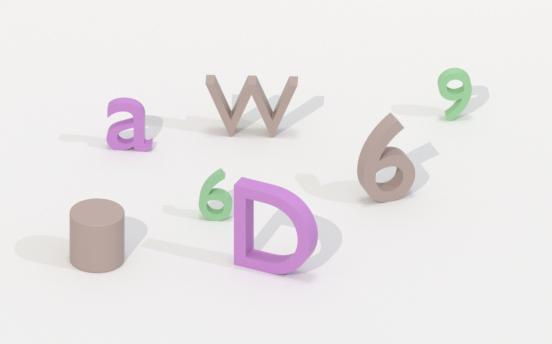6: (356, 111, 415, 205), (196, 167, 233, 227)
9: (436, 62, 476, 123)
a: (104, 95, 155, 156)
d: (231, 167, 319, 280)
tru: (68, 195, 128, 277)
w: (203, 71, 300, 141)
